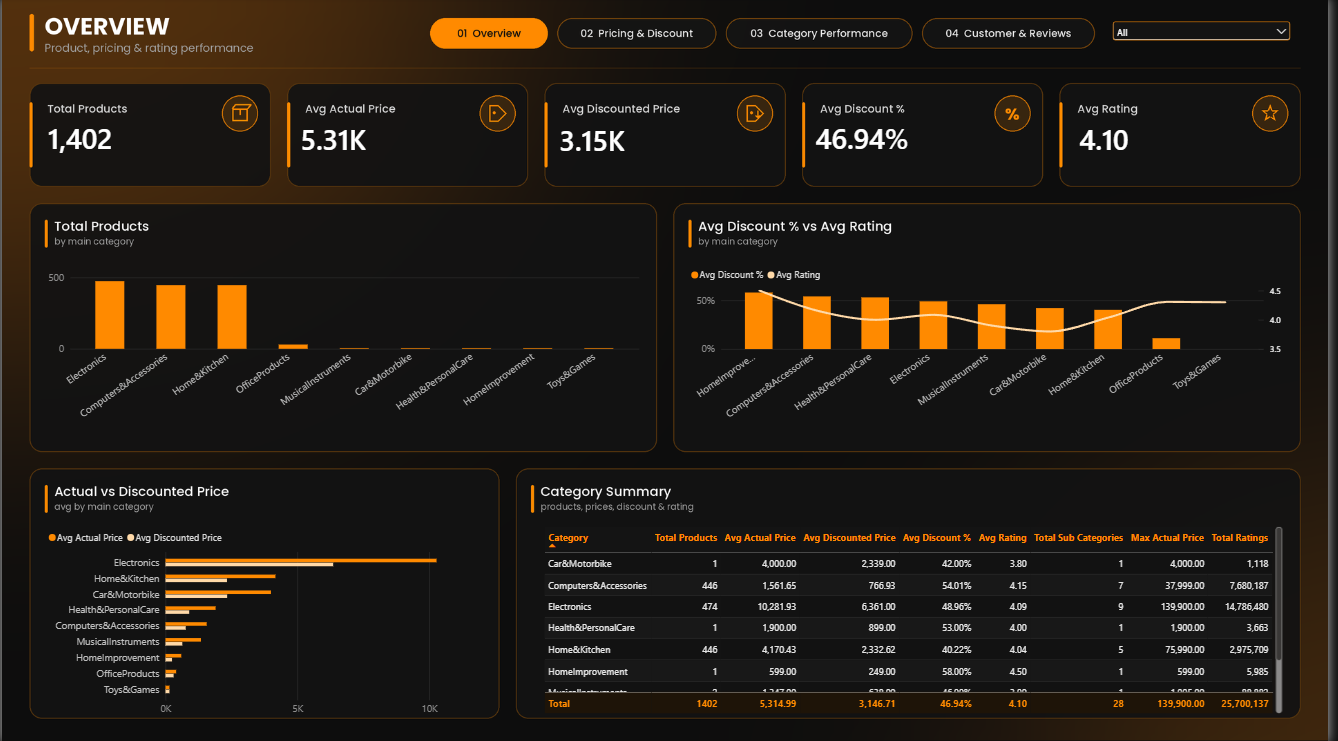

The page's visual inventory and layout, read from the dashboard file:
{"tool":"powerbi","page":{"name":"Overview","canvas":[1920,1080],"ordinal":1},"visuals":[{"type":"cardVisual","fields":{"Data":["meseaur.Total Products Display"]},"box":[50,162,222,82],"z":0},{"type":"cardVisual","fields":{"Data":["meseaur.Avg Actual Price"]},"box":[416,154,200,102],"z":1000},{"type":"cardVisual","fields":{"Data":["meseaur.Avg Discounted Price"]},"box":[790,164,222,82],"z":2000},{"type":"cardVisual","fields":{"Data":["meseaur.Avg Discount %"]},"box":[1162,158,174,92],"z":3000},{"type":"cardVisual","fields":{"Data":["meseaur.Avg Rating"]},"box":[1544,160,172,92],"z":4000},{"type":"columnChart","fields":{"Category":["Dim_Category.Main Category"],"Y":["meseaur.Total Products"]},"box":[50,362,888,284],"z":5000},{"type":"lineClusteredColumnComboChart","fields":{"Category":["Dim_Category.Main Category"],"Y":["meseaur.Avg Discount %"],"Y2":["meseaur.Avg Rating"]},"box":[980,372,890,274],"z":6000},{"type":"clusteredBarChart","fields":{"Category":["Dim_Category.Main Category"],"Y":["meseaur.Avg Actual Price","meseaur.Avg Discounted Price"]},"box":[50,752,672,308],"z":7000},{"type":"tableEx","fields":{"Values":["Dim_Category.Main Category","meseaur.Total Products","meseaur.Avg Actual Price","meseaur.Avg Discounted Price","meseaur.Avg Discount %","meseaur.Avg Rating","meseaur.Total Sub Categories","meseaur.Max Actual Price","meseaur.Total Ratings"]},"box":[770,752,1100,300],"z":8000},{"type":"slicer","fields":{"Values":["Dim_Category.Main Category"]},"box":[1603.9,31.4,266.7,52.9],"z":9000},{"type":"actionButton","box":[629.8,30.8,161.1,39.8],"z":10000},{"type":"actionButton","box":[819.8,34.4,193.6,39.8],"z":11000},{"type":"actionButton","box":[1058.7,30.8,246.1,39.8],"z":12000},{"type":"actionButton","box":[1342.8,30.8,242.5,47.1],"z":13000}]}

Visuals, with their boxes in screenshot pixels (x1, y1, x2, y2), scaled from the page's 1920x1080 canvas onto the 1338x741 screenshot:
cardVisual - meseaur.Total Products Display: 35/111/190/167
cardVisual - meseaur.Avg Actual Price: 290/106/429/176
cardVisual - meseaur.Avg Discounted Price: 551/113/705/169
cardVisual - meseaur.Avg Discount %: 810/108/931/172
cardVisual - meseaur.Avg Rating: 1076/110/1196/173
columnChart - Dim_Category.Main Category x meseaur.Total Products: 35/248/654/443
lineClusteredColumnComboChart - Dim_Category.Main Category x meseaur.Avg Discount %: 683/255/1303/443
clusteredBarChart - Dim_Category.Main Category x meseaur.Avg Actual Price: 35/516/503/727
tableEx - Dim_Category.Main Category x meseaur.Total Products: 537/516/1303/722
slicer - Dim_Category.Main Category: 1118/22/1304/58
actionButton: 439/21/551/48
actionButton: 571/24/706/51
actionButton: 738/21/909/48
actionButton: 936/21/1105/53
